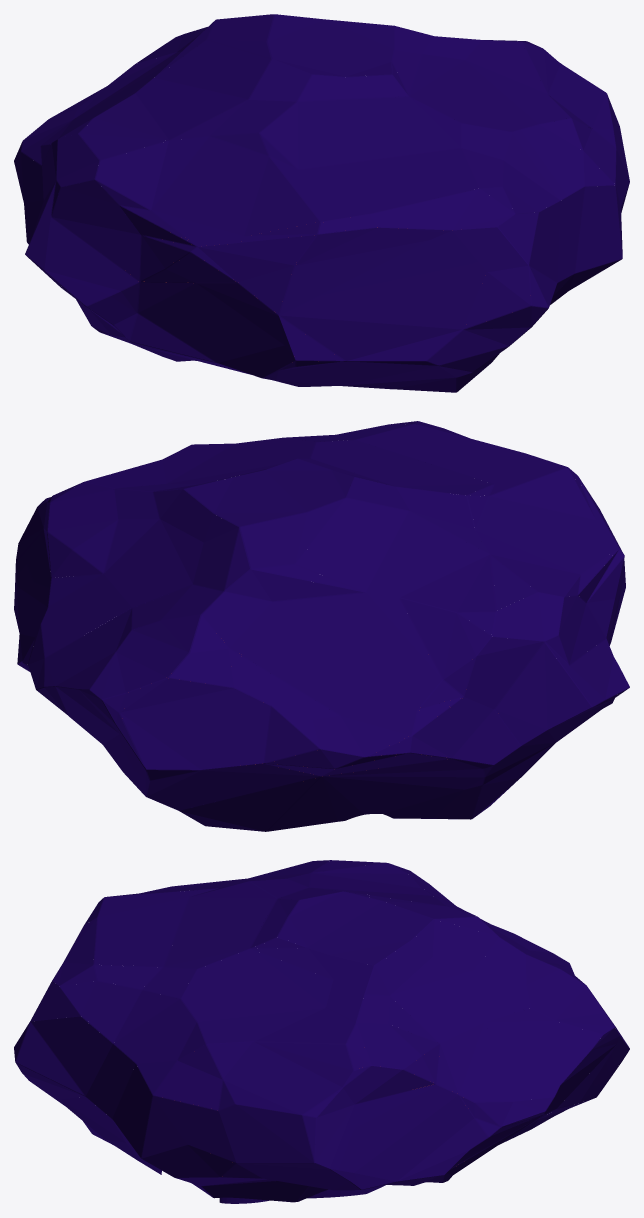
The model's file is Swift.glb.
The picture shows the model from 3 angles, top to bottom: view 1: azimuth 30°, elevation 25°; view 2: azimuth 150°, elevation 25°; view 3: azimuth 270°, elevation 25°; orthographic projection. The views are drawn at different scales.
Visible parts, largest first — view 1: Cube.007; view 2: Cube.007; view 3: Cube.007.
Boxes of the visible parts, box(x1,y1,x2,y2) form: Cube.007: box(14, 14, 629, 392); Cube.007: box(14, 421, 629, 831); Cube.007: box(14, 860, 629, 1203).
Size of the model in its own units: 2 by 0.9184 by 2.04.
